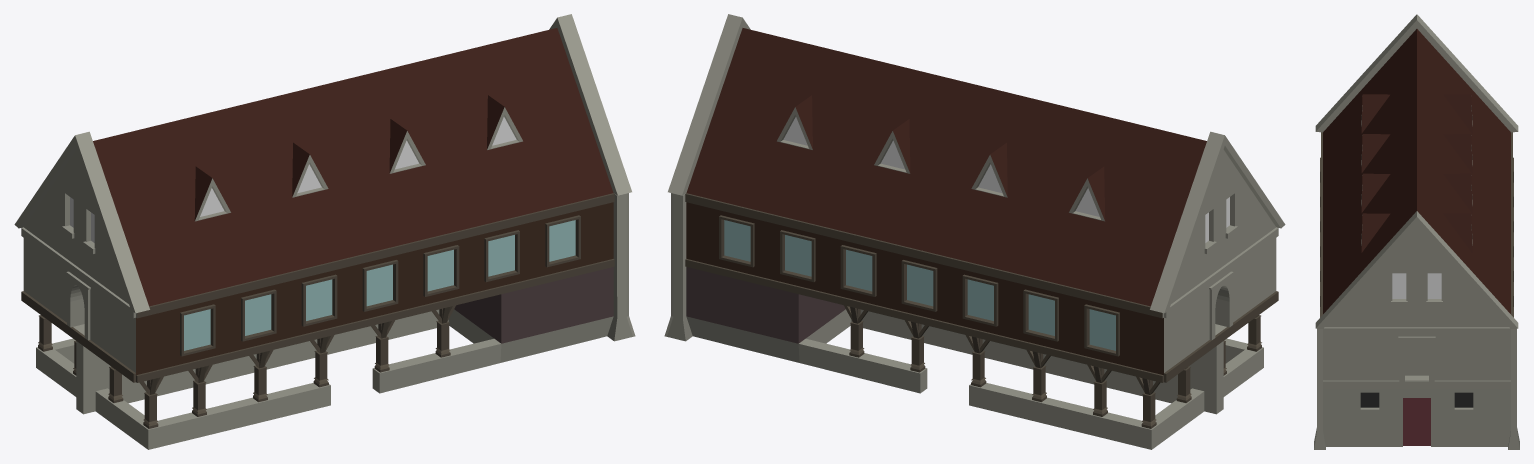
Rendered from LibraryColors.fbx.
The picture shows the model from 3 angles, left to right: view 1: azimuth 30°, elevation 25°; view 2: azimuth 150°, elevation 25°; view 3: azimuth 270°, elevation 25°; orthographic projection. The views are drawn at different scales.
Visible parts, largest first — view 1: Cube, Pillars; view 2: Cube, Pillars; view 3: Cube.
Part boxes in pixels (left/top/right/bottom): Cube: left=14, top=14, right=635, bottom=449; Pillars: left=38, top=305, right=455, bottom=428; Cube: left=664, top=14, right=1285, bottom=449; Pillars: left=844, top=305, right=1261, bottom=428; Cube: left=1314, top=14, right=1519, bottom=449.
Bounding box in the file's own units: 1750 × 2181 × 4099.
